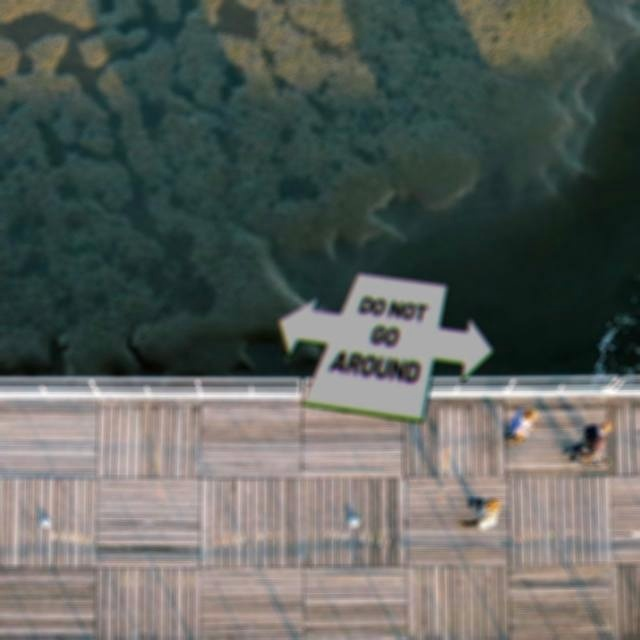DO_NOT_GO_AROUND: (277, 272, 495, 423)
